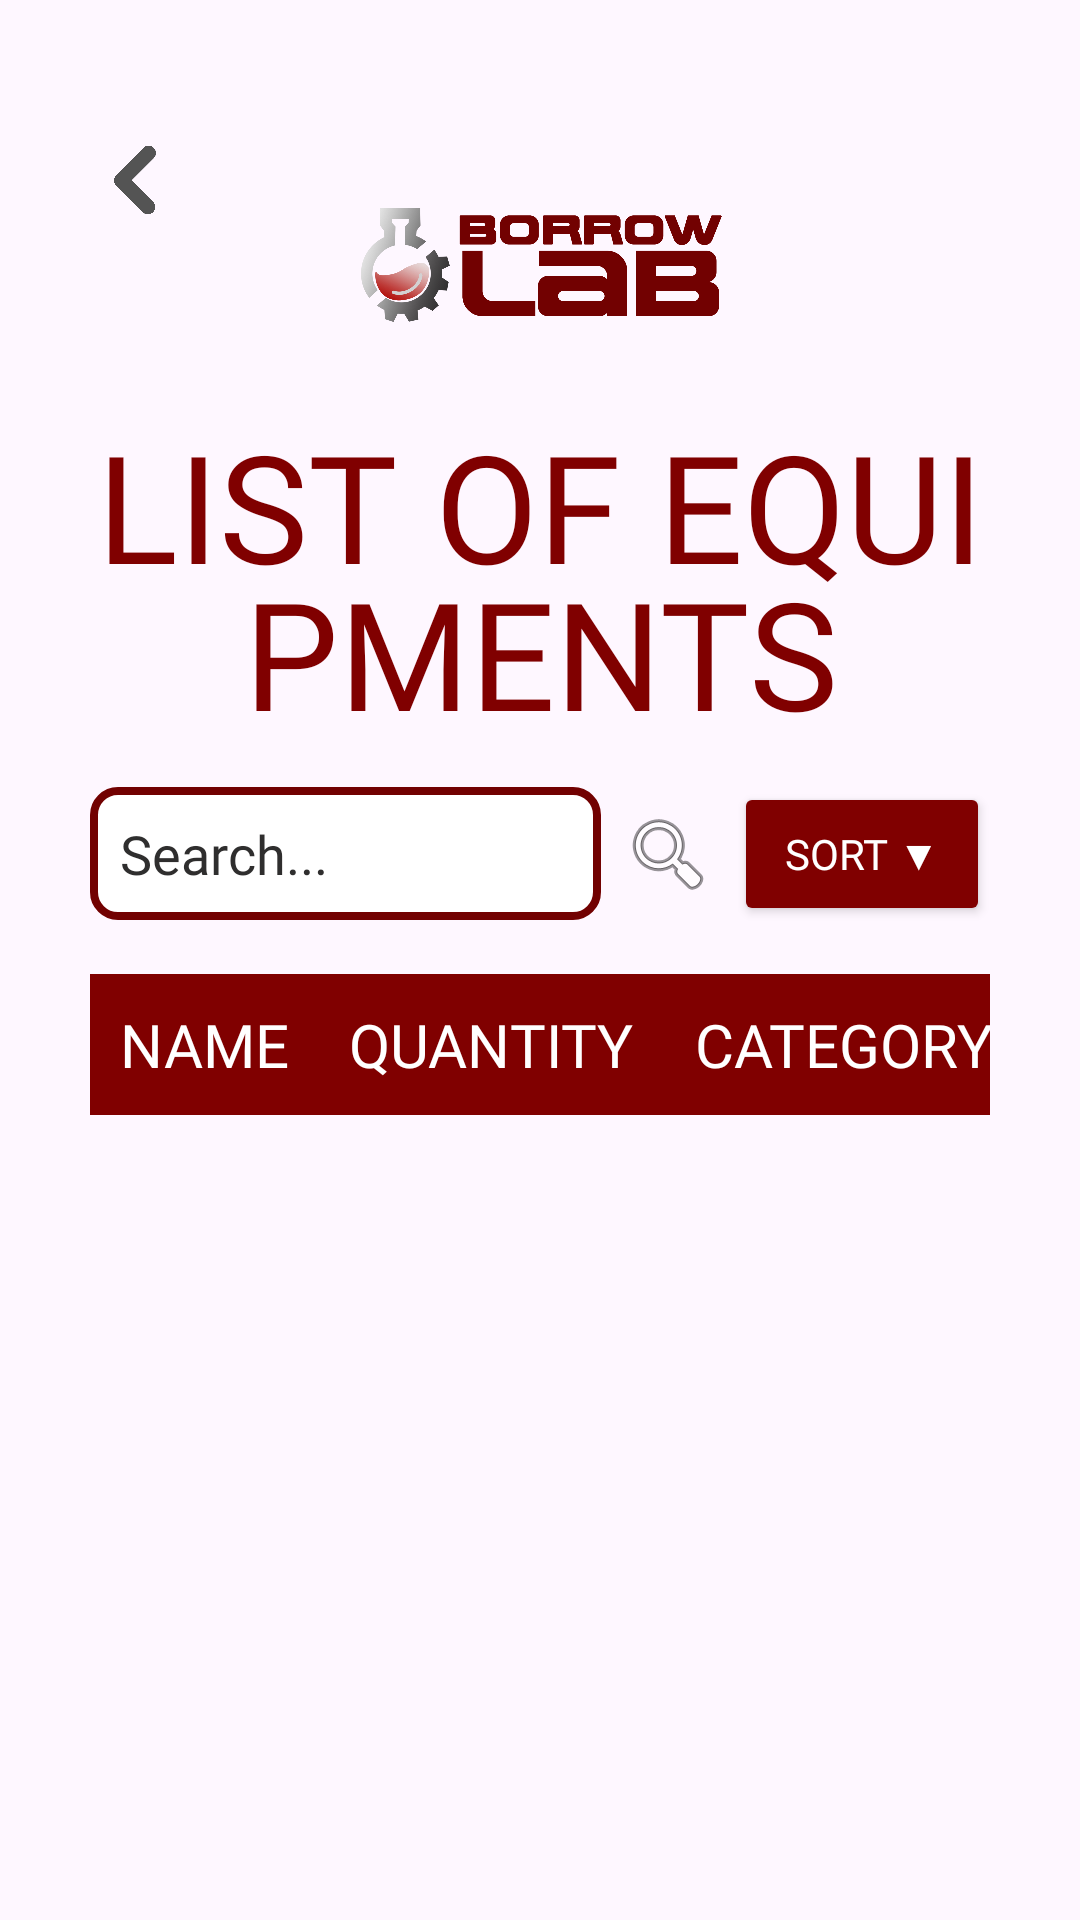

Named icons in this screenshot (1080x1920) and their centers, (x,y):
Back Button: (135,180)
